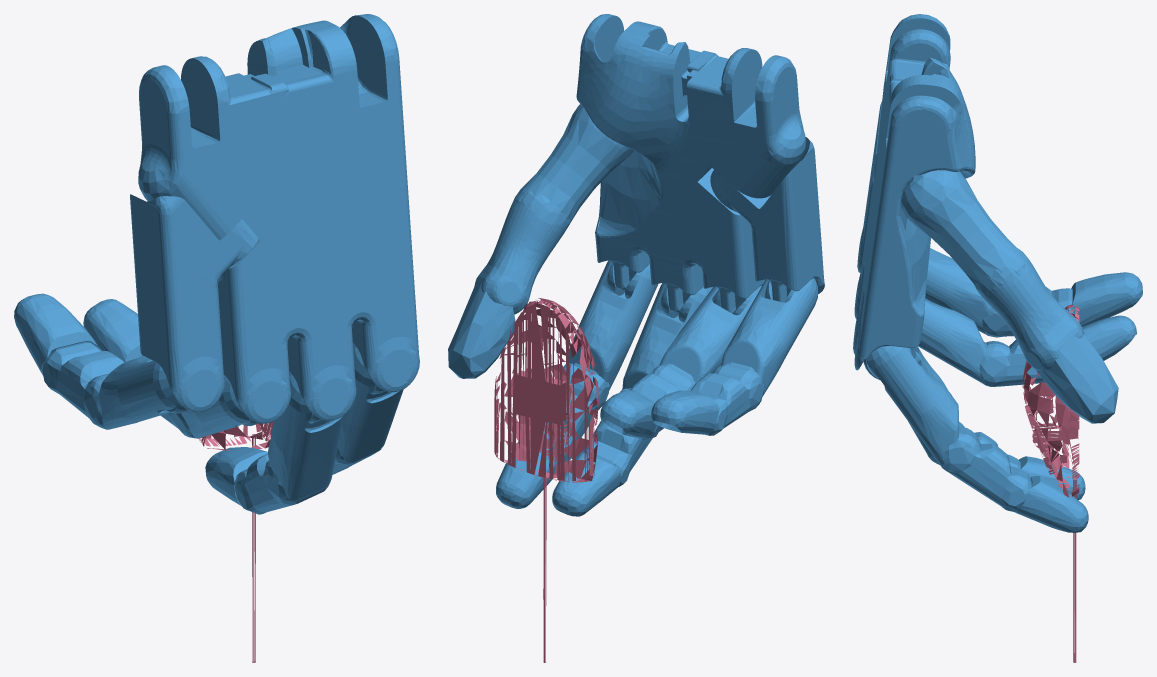
3 renders of one model, left to right at view 1: azimuth 30°, elevation 25°; view 2: azimuth 150°, elevation 25°; view 3: azimuth 270°, elevation 25°, orthographic. The views are drawn at different scales.
Visible parts, largest first — view 1: 0; view 2: 0; view 3: 0.
Part boxes in pixels (x1=…): 0: x1=14, y1=14, x2=419, y2=662; 0: x1=448, y1=14, x2=824, y2=662; 0: x1=853, y1=14, x2=1142, y2=662.
Bounding box in the file's own units: 0.1089 × 0.2308 × 0.1056.
